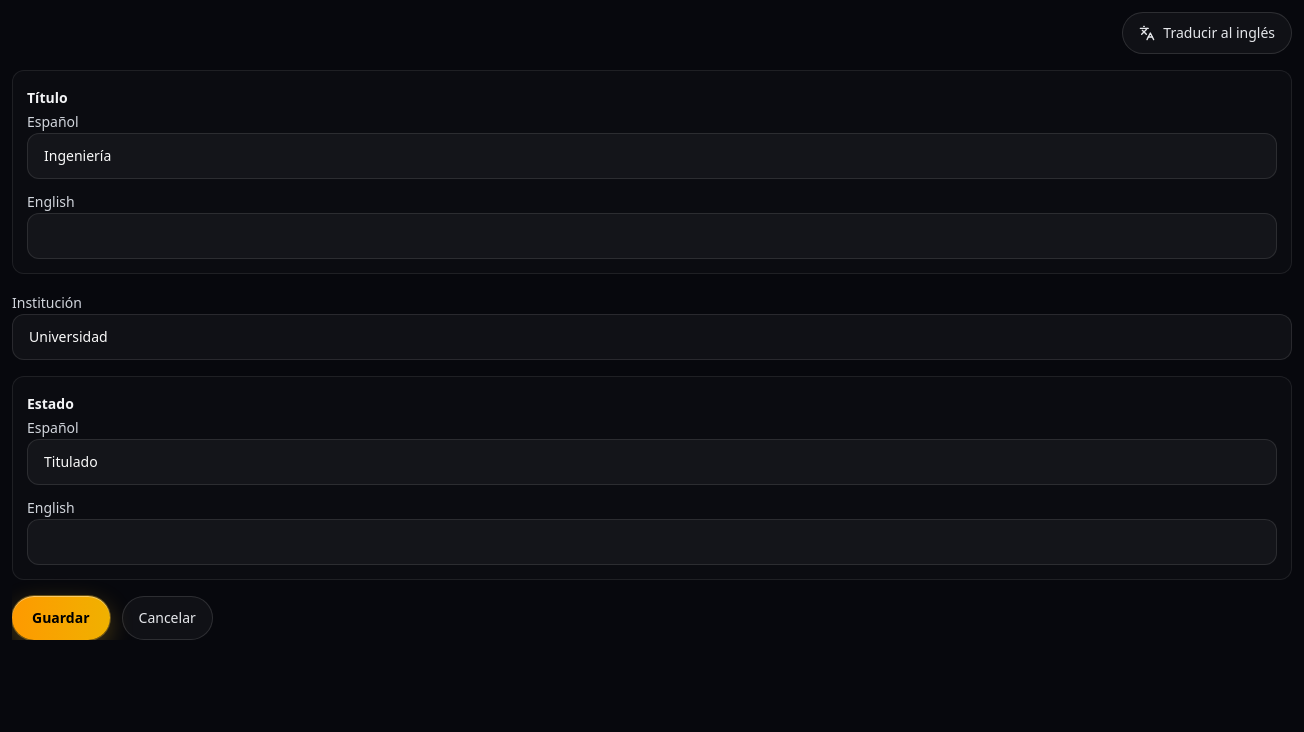
Test case: EducationForm › rellena los campos en inglés al traducir
Click the button "Traducir al inglés" at (1207,33), box 1122,12 -> 1292,54
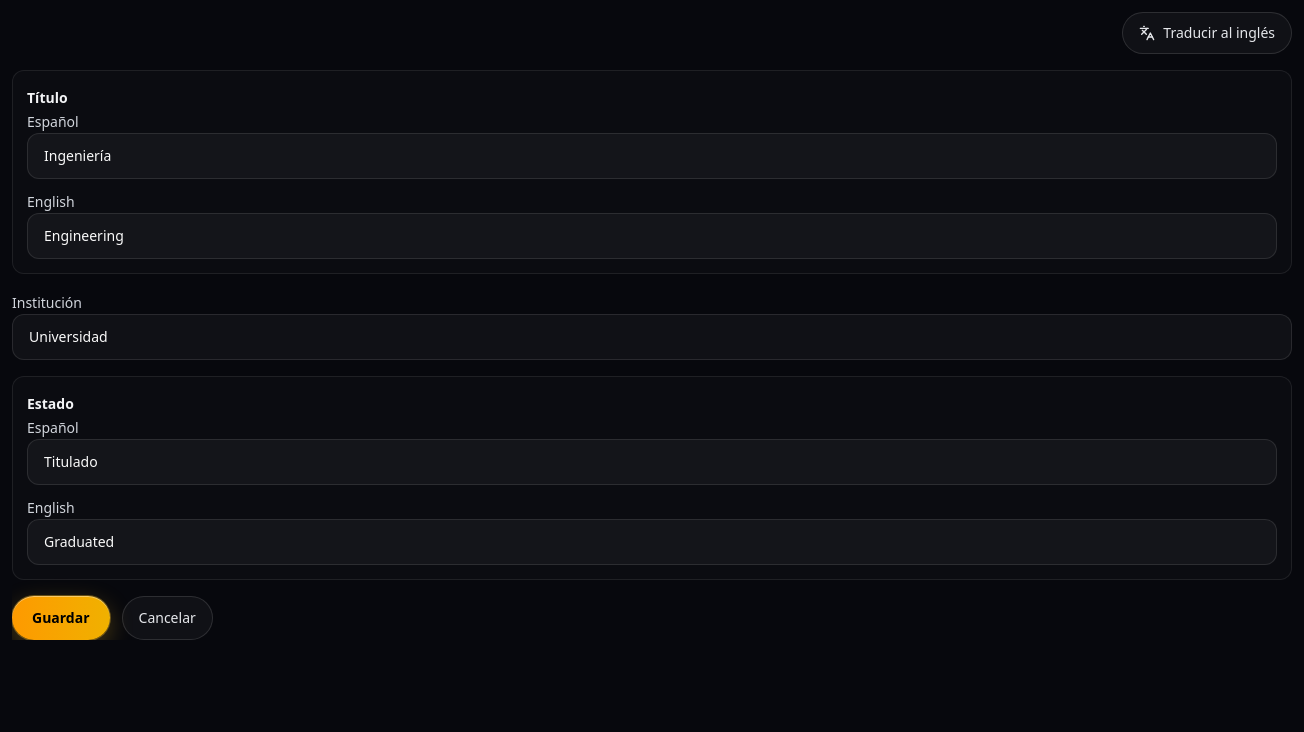
Now the field showing "Engineering" below "Título" is shown, box 27,213 -> 1277,259
Now the field showing "Graduated" below "Estado" is shown, box 27,519 -> 1277,565
